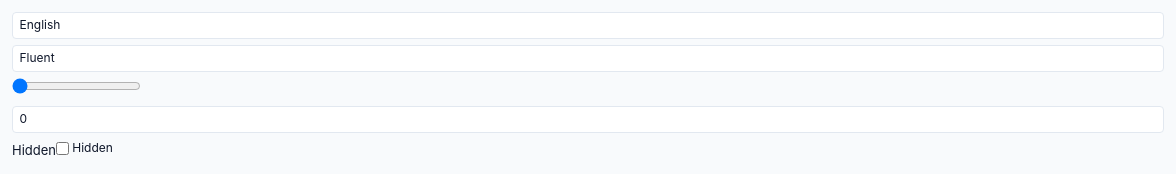
LanguageDialog (AC-04, AC-15, AC-18, AC-19, AC-20) › level=0 displays 'Hidden', level=3 displays '3 / 5' (AC-15, R3 + R15)
The width and height of the screenshot is (1176, 174).
expect the text with test id "languages-level-label" reads "Hidden": met, box x1=12 y1=142 x2=56 y2=158
Set the slider with test id "languages-level" to "3" at coordinates (88, 86), box x1=12 y1=78 x2=141 y2=94
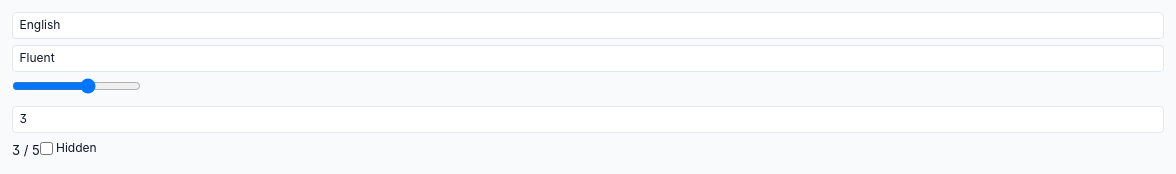
expect the text with test id "languages-level-label" reads "3 / 5": met, box x1=12 y1=142 x2=40 y2=158
